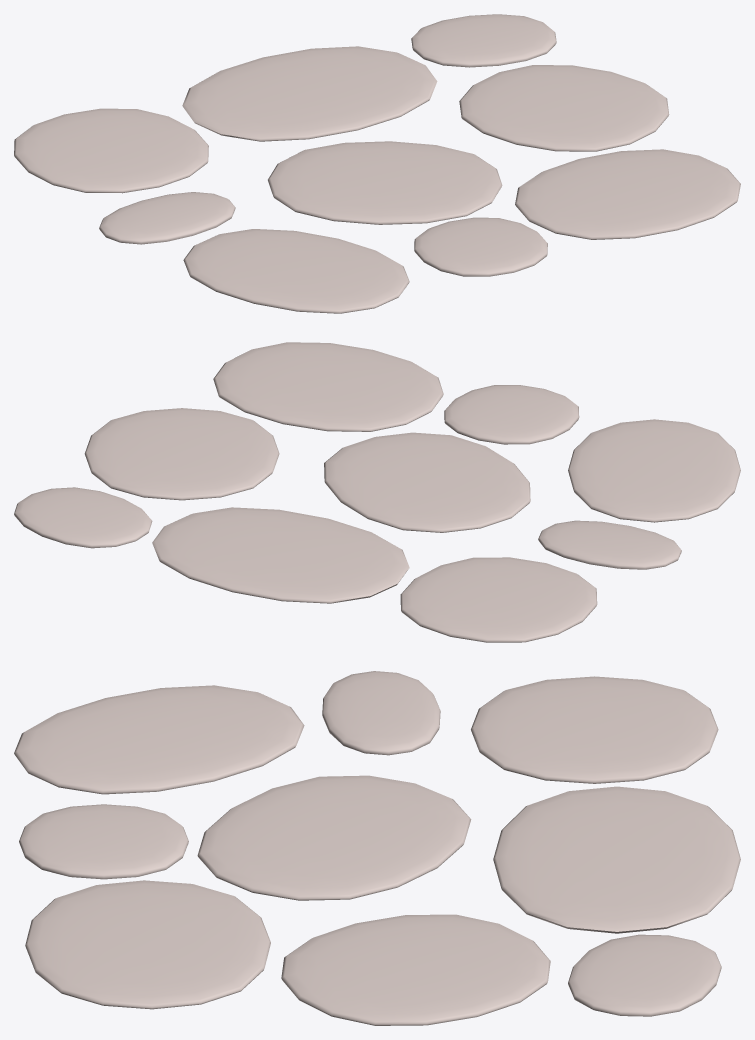
Rendered from Farm_2_Path_1.glb.
3 views of the same model, one above another, from view 1: azimuth 30°, elevation 25°; view 2: azimuth 150°, elevation 25°; view 3: azimuth 270°, elevation 25° (orthographic). The views are drawn at different scales.
Visible parts, largest first — view 1: Farm_2_Path_1; view 2: Farm_2_Path_1; view 3: Farm_2_Path_1.
Part boxes in pixels (bbox=[...]): Farm_2_Path_1: bbox=[14, 14, 740, 313]; Farm_2_Path_1: bbox=[14, 342, 740, 642]; Farm_2_Path_1: bbox=[14, 671, 740, 1025].
Size of the model in its own units: 1.5 by 0.0171 by 1.31.
1 material, 1 textured.
